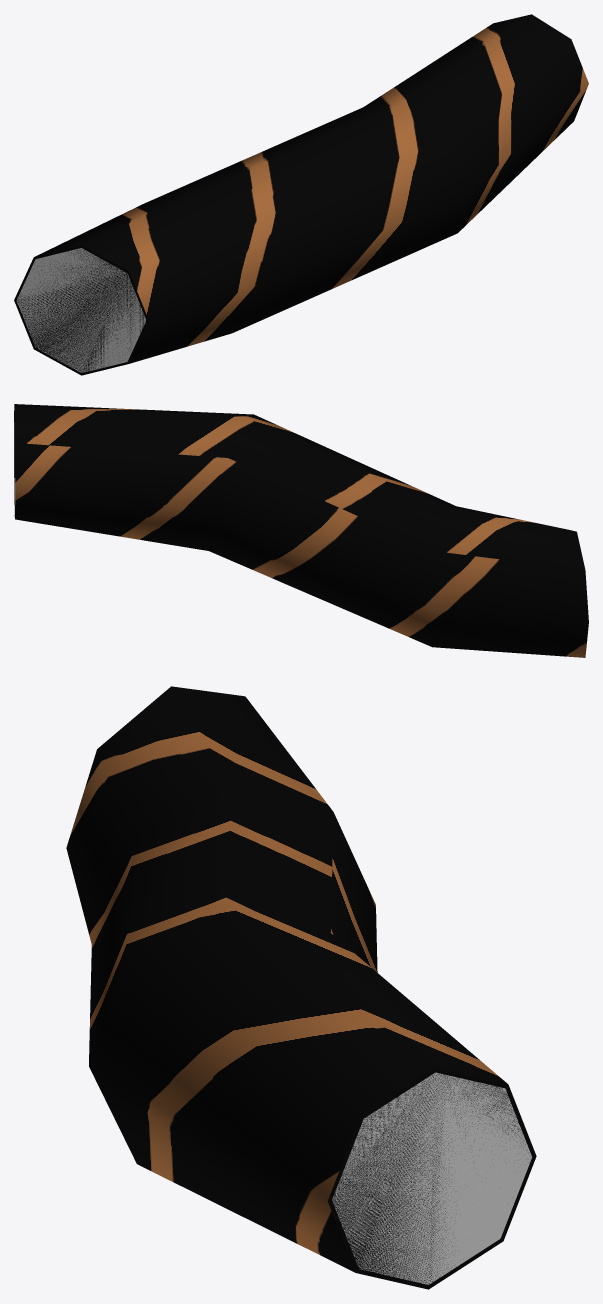
Rendered from cutOff.fbx.
3 renders of one model, top to bottom at view 1: azimuth 30°, elevation 25°; view 2: azimuth 150°, elevation 25°; view 3: azimuth 270°, elevation 25°, orthographic. The views are drawn at different scales.
Visible parts, largest first — view 1: cutOff; view 2: cutOff; view 3: cutOff.
Boxes of the visible parts, bbox=[...] form: cutOff: bbox=[14, 14, 588, 375]; cutOff: bbox=[14, 404, 588, 657]; cutOff: bbox=[66, 686, 536, 1289].
Size of the model in its own units: 2.58 by 0.798 by 0.9353.
